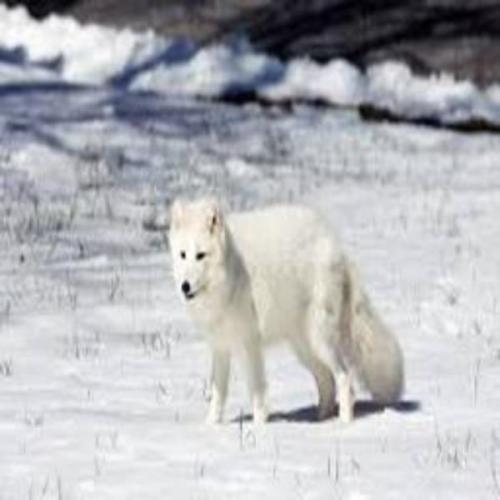arctic_fox-endangered: (166, 200, 403, 422)
